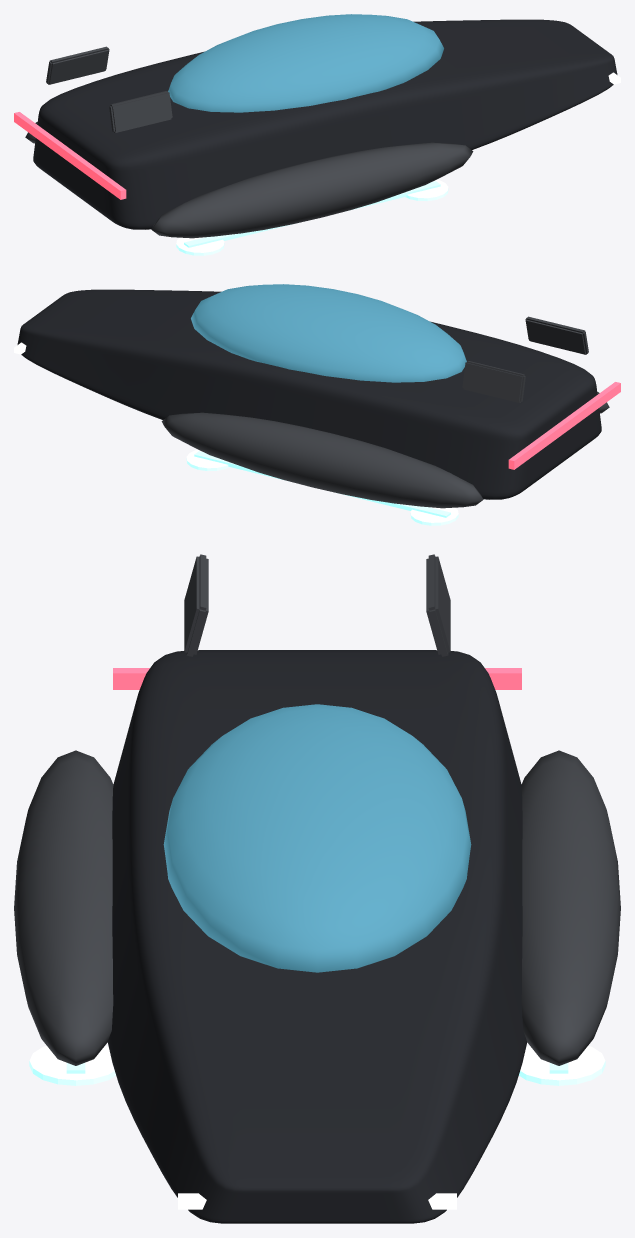
Rendered from spinner151.glb.
3 renders of one model, top to bottom at view 1: azimuth 30°, elevation 25°; view 2: azimuth 150°, elevation 25°; view 3: azimuth 270°, elevation 25°, orthographic. The views are drawn at different scales.
Visible parts, largest first — view 1: s151-body, s151-glass, s151-nacelle, s151-fin, s151-tail, s151-fin.001, s151-cyan, s151-thrust.001, s151-thrust; view 2: s151-body, s151-glass, s151-nacelle.001, s151-fin.001, s151-tail, s151-fin, s151-cyan.001, s151-thrust.003, s151-thrust.002; view 3: s151-body, s151-glass, s151-nacelle, s151-nacelle.001, s151-thrust, s151-thrust.002, s151-fin, s151-fin.001, s151-tail, s151-head.
Part boxes in pixels (box(x1,y1,x2,y2)): s151-body: box(33, 19, 617, 229); s151-glass: box(168, 14, 443, 112); s151-nacelle: box(151, 142, 473, 238); s151-fin: box(109, 91, 172, 132); s151-tail: box(14, 112, 126, 199); s151-fin.001: box(46, 46, 109, 84); s151-cyan: box(184, 181, 440, 247); s151-thrust.001: box(176, 237, 224, 255); s151-thrust: box(405, 179, 448, 201); s151-body: box(17, 289, 601, 499); s151-glass: box(191, 284, 466, 382); s151-nacelle.001: box(161, 412, 483, 508); s151-fin.001: box(462, 361, 525, 402); s151-tail: box(508, 382, 620, 469); s151-fin: box(525, 316, 588, 354); s151-cyan.001: box(194, 451, 450, 517); s151-thrust.003: box(410, 507, 458, 525); s151-thrust.002: box(186, 449, 229, 471); s151-body: box(108, 650, 526, 1223); s151-glass: box(163, 704, 471, 972); s151-nacelle: box(14, 750, 113, 1065); s151-nacelle.001: box(521, 750, 620, 1065); s151-thrust: box(29, 1046, 115, 1085); s151-thrust.002: box(519, 1046, 605, 1085); s151-fin: box(184, 554, 208, 656); s151-fin.001: box(426, 554, 450, 656); s151-tail: box(113, 668, 521, 689); s151-head: box(178, 1193, 456, 1209).
Size of the model in its own units: 3.75 by 0.8916 by 1.96.
